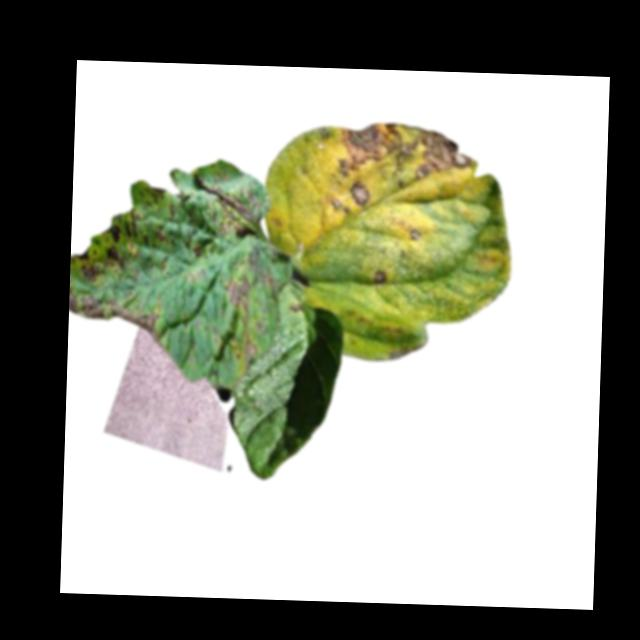Early_blight: (335, 120, 478, 184), (68, 291, 160, 341), (194, 173, 264, 238), (103, 207, 150, 269), (70, 249, 103, 285), (223, 276, 254, 310), (241, 336, 258, 369), (349, 180, 369, 204), (328, 198, 350, 214), (149, 183, 167, 202), (154, 222, 169, 243), (287, 295, 302, 313), (188, 242, 203, 259), (373, 267, 387, 284), (408, 227, 421, 241)
